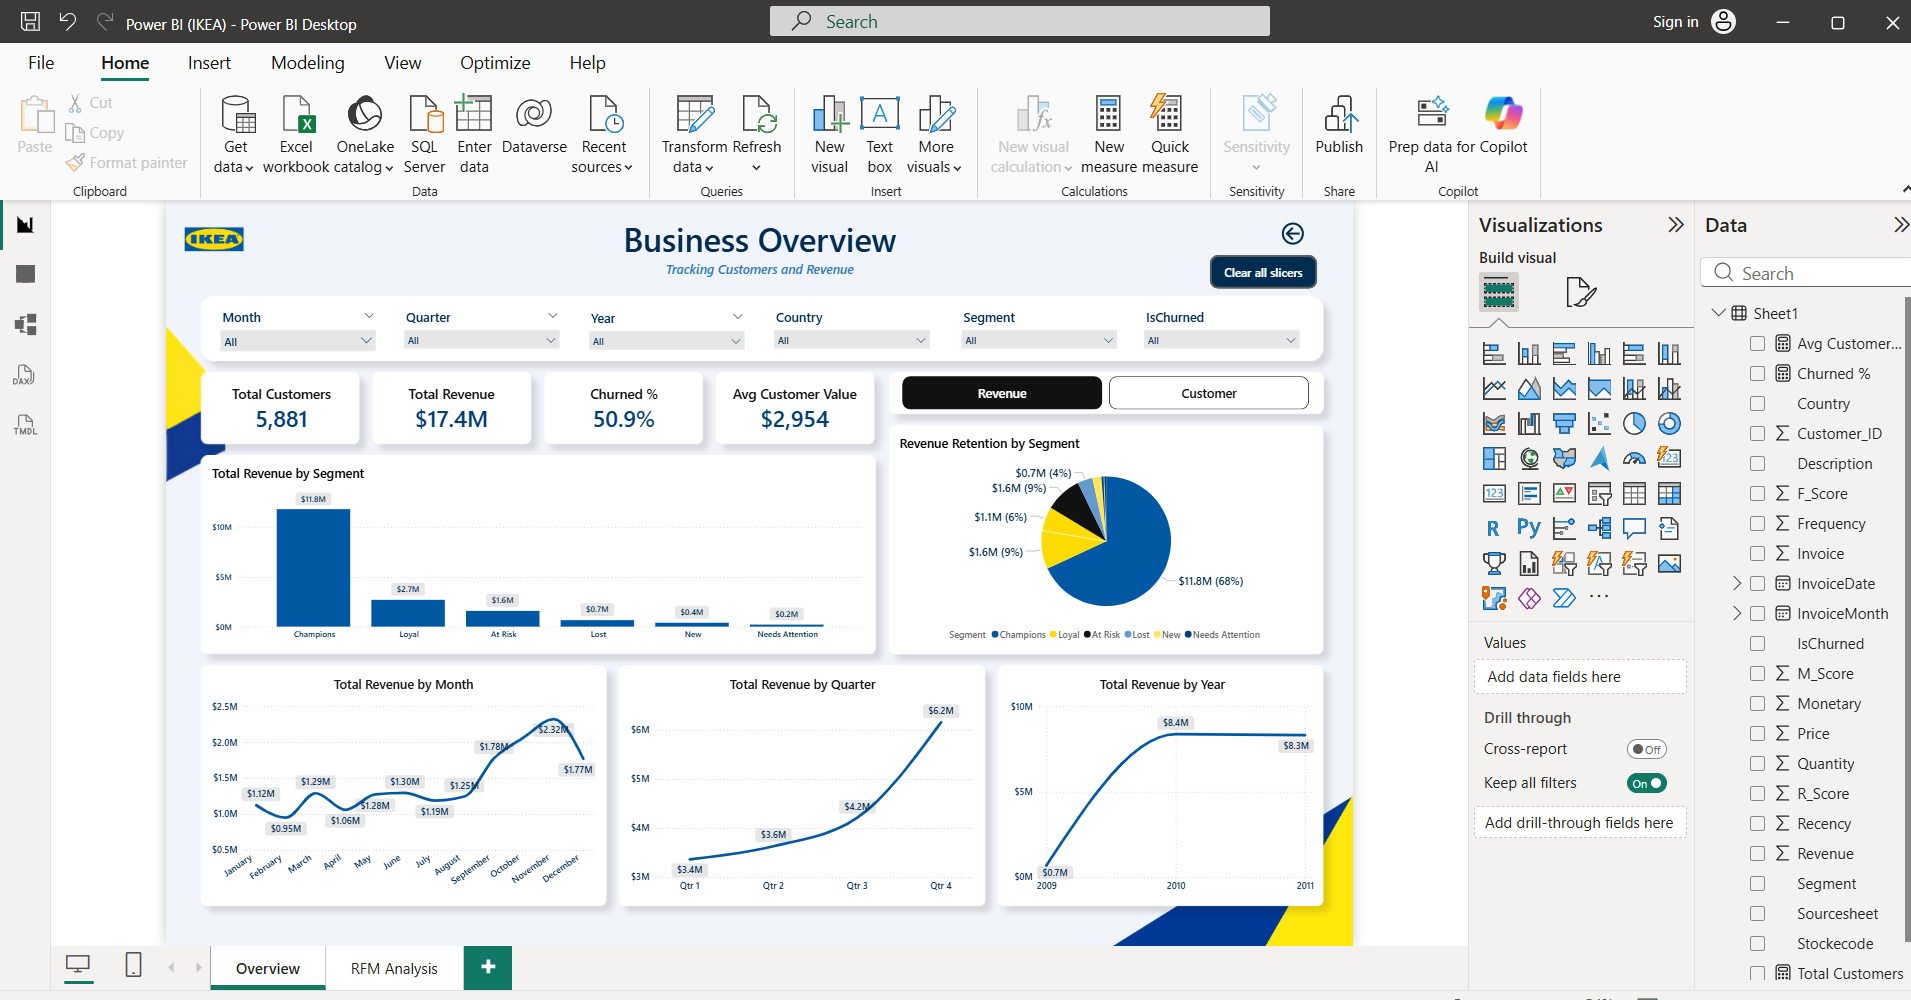

This screenshot's page, from the dashboard's own definition file:
{"tool":"powerbi","page":{"name":"Overview","canvas":[1750,1100],"ordinal":0},"visuals":[{"type":"card","title":"Total Customers","fields":{"Values":["Sheet1.Total Customers"]},"box":[69.4,262.4,200.6,88.1],"z":0},{"type":"columnChart","fields":{"Y":["Sheet1.Total Revenue"],"Category":["Sheet1.Segment"]},"box":[61.9,386.2,971,273.7],"z":0,"group":"g1"},{"type":"card","title":"Total Revenue","fields":{"Values":["Sheet1.Total Revenue"]},"box":[318.7,262.4,204.3,88.1],"z":1000},{"type":"pieChart","title":"Revenue Retention by Segment","fields":{"Category":["Sheet1.Segment"],"Series":["Sheet1.IsChurned"],"Y":["Sheet1.Total Revenue"]},"box":[1076,341.2,620.5,318.7],"z":1000,"group":"g1"},{"type":"card","title":"Churned %","fields":{"Values":["Sheet1.Churned %"]},"box":[573.6,262.4,204.3,88.1],"z":2000},{"type":"lineChart","title":"Total Revenue by Month","fields":{"Y":["Sheet1.Total Revenue"],"Category":["Sheet1.InvoiceMonth.Variation.Date Hierarchy.Month"]},"box":[61.9,697.4,575.5,333.7],"z":2000,"group":"g1"},{"type":"card","title":"Avg Customer Value","fields":{"Values":["Sheet1.Avg Customer Value"]},"box":[822.9,262.4,209.9,88.1],"z":3000},{"type":"lineChart","fields":{"Category":["Sheet1.InvoiceMonth.Variation.Date Hierarchy.Year"],"Y":["Sheet1.Total Revenue"]},"box":[1239.1,697.4,457.4,333.7],"z":3000,"group":"g1"},{"type":"slicer","fields":{"Values":["Sheet1.InvoiceMonth.Variation.Date Hierarchy.Month"]},"box":[69.4,155.6,249.3,69.4],"z":4000},{"type":"lineChart","fields":{"Category":["Sheet1.InvoiceMonth.Variation.Date Hierarchy.Quarter"],"Y":["Sheet1.Total Revenue"]},"box":[678.6,697.4,517.4,333.7],"z":4000,"group":"g1"},{"type":"slicer","fields":{"Values":["Sheet1.InvoiceDate.Variation.Date Hierarchy.Quarter"]},"box":[341.2,155.6,249.3,69.4],"z":5000},{"type":"slicer","fields":{"Values":["Sheet1.InvoiceDate.Variation.Date Hierarchy.Year"]},"box":[613,157.5,249.3,69.4],"z":6000},{"type":"slicer","fields":{"Values":["Sheet1.Segment"]},"box":[1162.2,155.6,249.3,69.4],"z":7000},{"type":"slicer","fields":{"Values":["Sheet1.Country"]},"box":[886.6,155.6,249.3,69.4],"z":8000},{"type":"slicer","fields":{"Values":["Sheet1.IsChurned"]},"box":[1432.1,155.6,249.3,69.4],"z":9000},{"type":"group","id":"g1","title":"Revenue","box":[61.9,341.2,1634.5,689.8],"z":11000},{"type":"bookmarkNavigator","box":[1085.6,259.9,600.9,49.8],"z":12000},{"type":"image","box":[7.4,20.3,127.2,75.6],"z":13000},{"type":"textbox","box":[588,20.3,575.1,119.8],"z":14000},{"type":"actionButton","box":[1625.7,18.4,71.9,62.7],"z":15000},{"type":"actionButton","box":[1539,81.1,158.5,49.8],"z":16000}]}

Visuals, with their boxes on the page's 1750x1100 design canvas (x1, y1, x2, y2). These are canvas units, not pixel positions in the 1911x1000 screenshot, which may show the page scaled, cropped or inside an application window:
"Total Customers" card: bbox=(69, 262, 270, 350)
columnChart - Sheet1.Total Revenue x Sheet1.Segment: bbox=(62, 386, 1033, 660)
"Total Revenue" card: bbox=(319, 262, 523, 350)
"Revenue Retention by Segment" pieChart: bbox=(1076, 341, 1696, 660)
"Churned %" card: bbox=(574, 262, 778, 350)
"Total Revenue by Month" lineChart: bbox=(62, 697, 637, 1031)
"Avg Customer Value" card: bbox=(823, 262, 1033, 350)
lineChart - Sheet1.InvoiceMonth.Variation.Date Hierarchy.Year x Sheet1.Total Revenue: bbox=(1239, 697, 1696, 1031)
slicer - Sheet1.InvoiceMonth.Variation.Date Hierarchy.Month: bbox=(69, 156, 319, 225)
lineChart - Sheet1.InvoiceMonth.Variation.Date Hierarchy.Quarter x Sheet1.Total Revenue: bbox=(679, 697, 1196, 1031)
slicer - Sheet1.InvoiceDate.Variation.Date Hierarchy.Quarter: bbox=(341, 156, 590, 225)
slicer - Sheet1.InvoiceDate.Variation.Date Hierarchy.Year: bbox=(613, 158, 862, 227)
slicer - Sheet1.Segment: bbox=(1162, 156, 1412, 225)
slicer - Sheet1.Country: bbox=(887, 156, 1136, 225)
slicer - Sheet1.IsChurned: bbox=(1432, 156, 1681, 225)
"Revenue" group: bbox=(62, 341, 1696, 1031)
bookmarkNavigator: bbox=(1086, 260, 1686, 310)
image: bbox=(7, 20, 135, 96)
textbox: bbox=(588, 20, 1163, 140)
actionButton: bbox=(1626, 18, 1698, 81)
actionButton: bbox=(1539, 81, 1698, 131)
